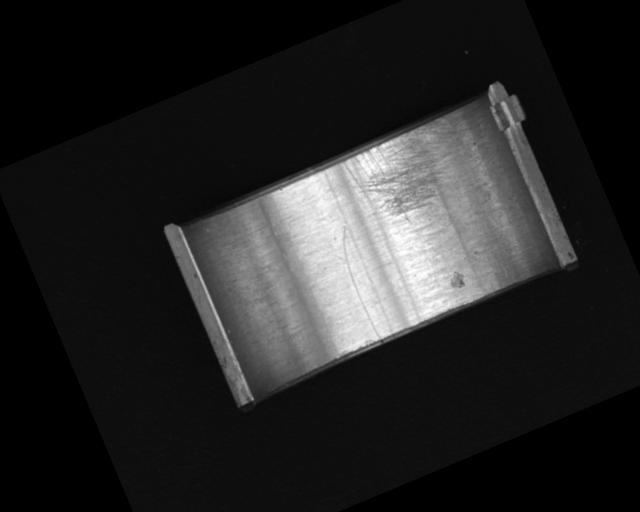bruise: (445, 269, 467, 292)
nick: (330, 223, 393, 343)
scratch: (336, 117, 473, 241)
